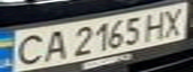1: (90, 20, 112, 53)
2: (69, 23, 97, 57)
5: (121, 13, 148, 46)
6: (109, 17, 130, 50)
A: (39, 27, 72, 63)
C: (6, 32, 48, 68)
H: (139, 9, 172, 42)
X: (157, 4, 190, 38)
